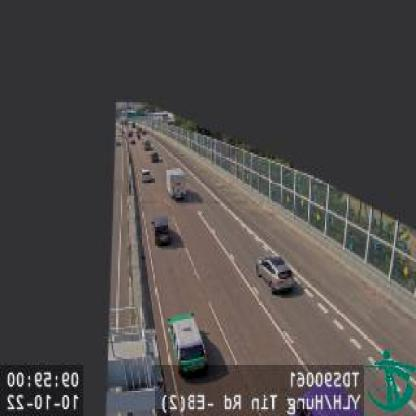Car: (164, 312, 209, 378), (257, 252, 296, 295), (154, 218, 172, 246), (142, 168, 152, 180), (150, 150, 160, 161)
Truck: (167, 169, 188, 201)
